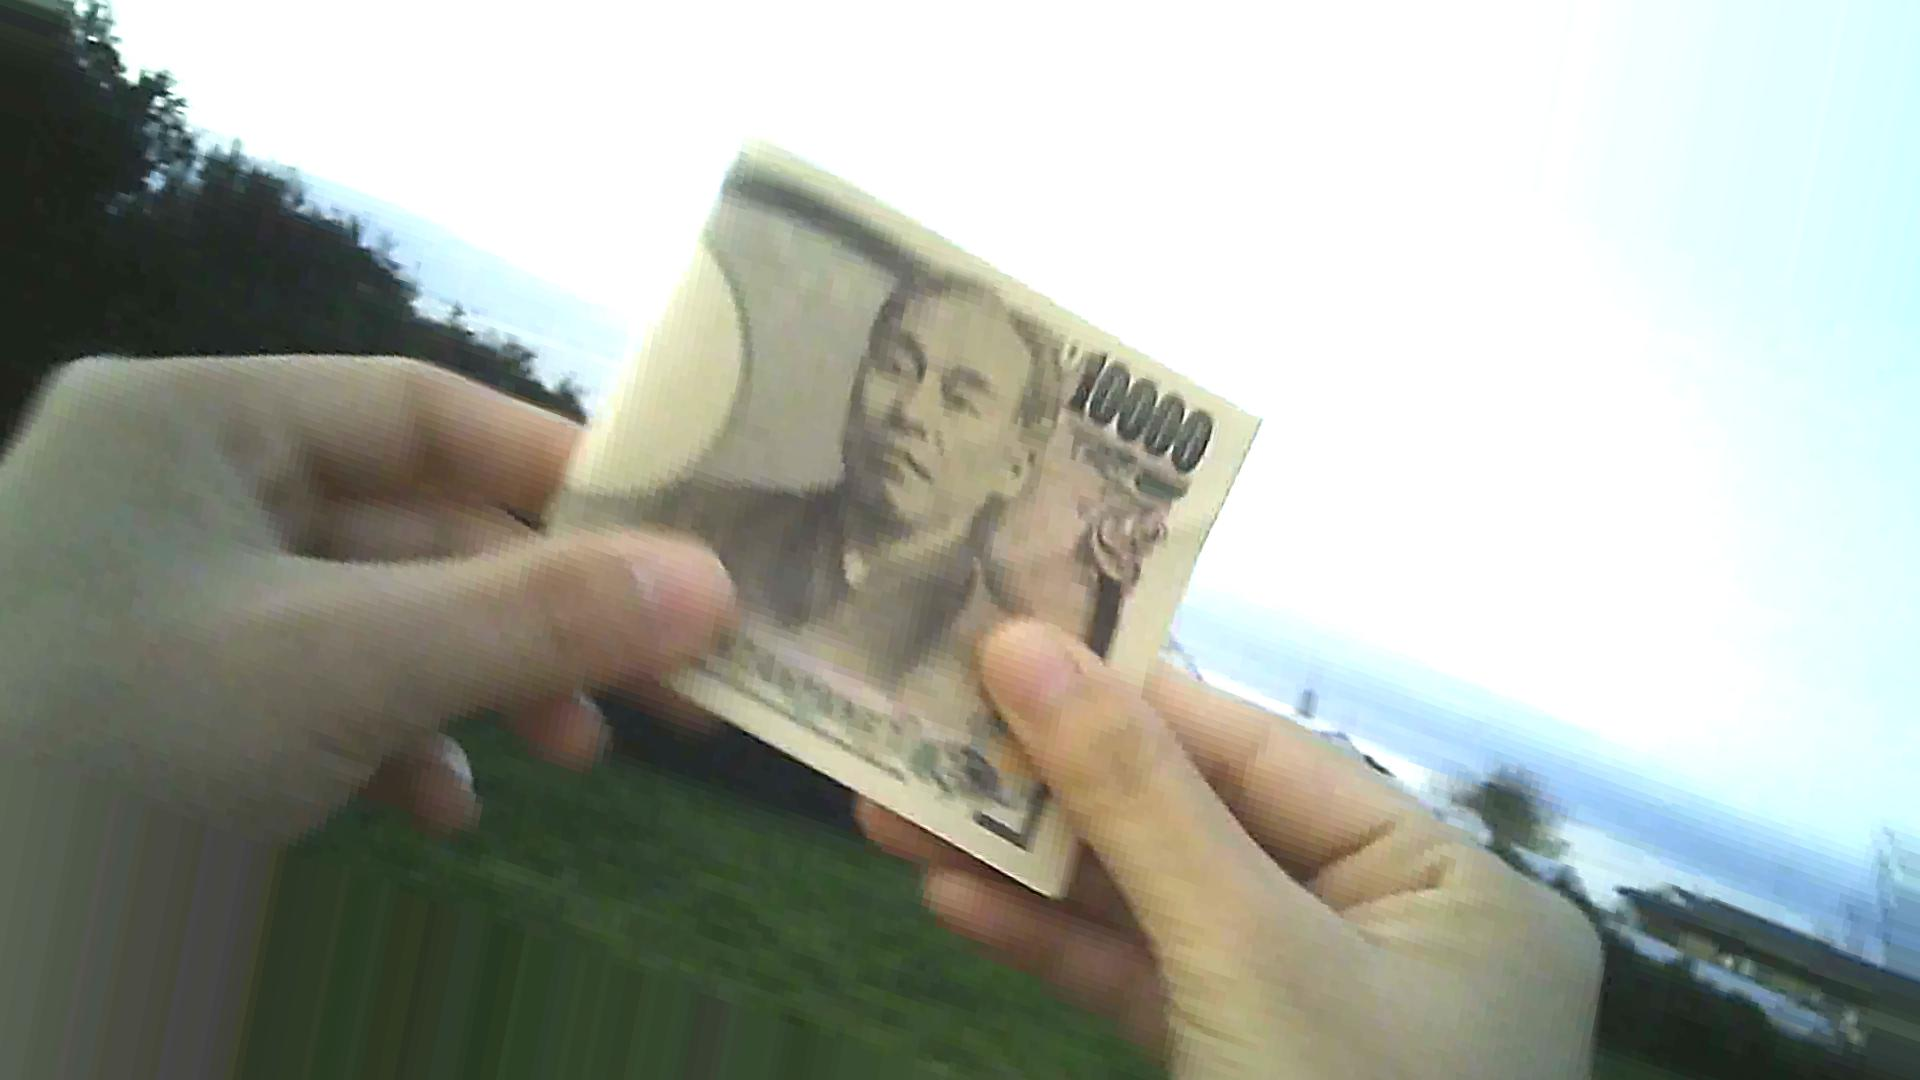10,000 Yen: (527, 164, 1291, 877)
